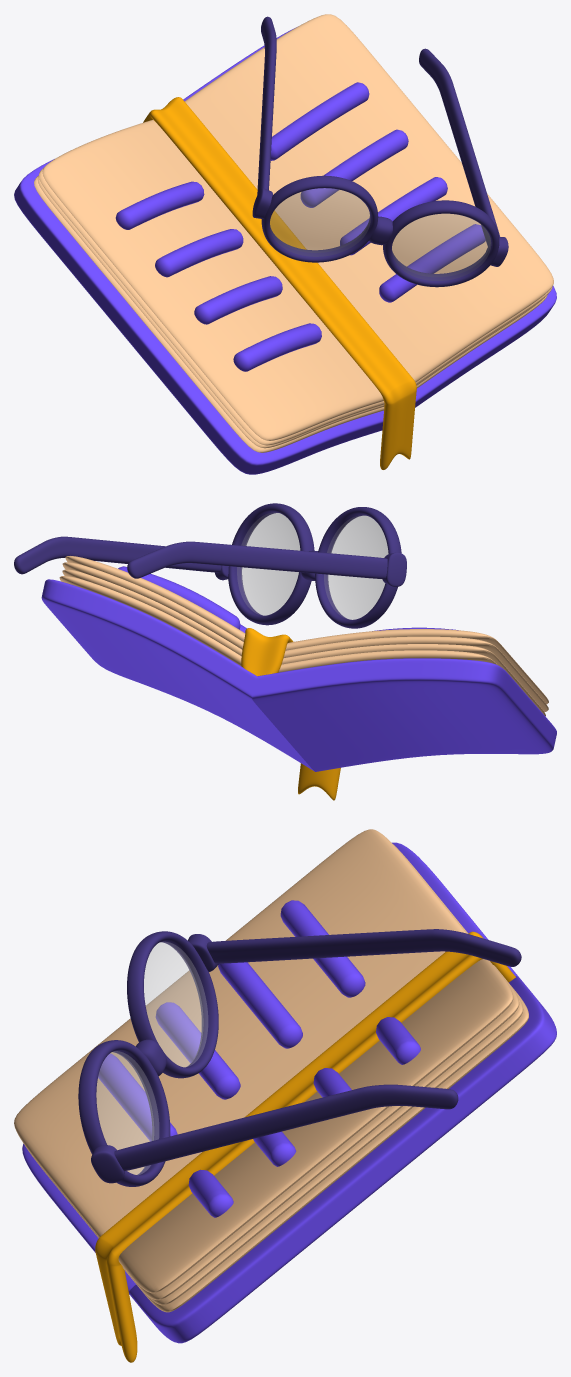
3 renders of one model, top to bottom at view 1: azimuth 30°, elevation 25°; view 2: azimuth 150°, elevation 25°; view 3: azimuth 270°, elevation 25°, orthographic. The views are drawn at different scales.
Parts seen in each view (by area): view 1: Cube.048, BezierCurve.012, Cube.044, Plane.014, Circle.051, Circle.048, Circle.050, Cube.045, Cube.047, Cube.046; view 2: Cube.044, Circle.050, Circle.051, Circle.048, Cube.047, Cube.048, Cube.045, Cube.046, Plane.014, BezierCurve.012; view 3: Cube.048, Cube.044, Circle.050, BezierCurve.012, Plane.014, Circle.051, Circle.048, Cube.047, Cube.045, Cube.046.
Part boxes in pixels (bbox=[...]): Cube.048: bbox=[42, 14, 553, 440]; BezierCurve.012: bbox=[115, 82, 485, 371]; Cube.044: bbox=[14, 27, 556, 474]; Plane.014: bbox=[143, 97, 416, 469]; Circle.051: bbox=[270, 188, 490, 280]; Circle.048: bbox=[261, 175, 499, 287]; Circle.050: bbox=[252, 16, 508, 266]; Cube.045: bbox=[34, 176, 547, 452]; Cube.047: bbox=[39, 168, 552, 445]; Cube.046: bbox=[37, 175, 544, 448]; Cube.044: bbox=[41, 579, 556, 771]; Circle.050: bbox=[14, 536, 406, 586]; Circle.051: bbox=[237, 512, 388, 619]; Circle.048: bbox=[228, 503, 401, 628]; Cube.047: bbox=[62, 562, 548, 712]; Cube.048: bbox=[65, 556, 548, 704]; Cube.045: bbox=[59, 576, 496, 672]; Cube.046: bbox=[62, 569, 545, 716]; Plane.014: bbox=[241, 628, 340, 800]; BezierCurve.012: bbox=[118, 566, 458, 632]; Cube.048: bbox=[14, 829, 513, 1293]; Cube.044: bbox=[22, 842, 556, 1343]; Circle.050: bbox=[91, 929, 521, 1183]; BezierCurve.012: bbox=[98, 900, 420, 1217]; Plane.014: bbox=[95, 931, 515, 1362]; Circle.051: bbox=[96, 942, 207, 1174]; Circle.048: bbox=[78, 931, 218, 1186]; Cube.047: bbox=[25, 844, 519, 1300]; Cube.045: bbox=[128, 986, 528, 1312]; Cube.046: bbox=[146, 994, 523, 1305].
Size of the model in its own units: 2.88 by 2.02 by 2.33.
